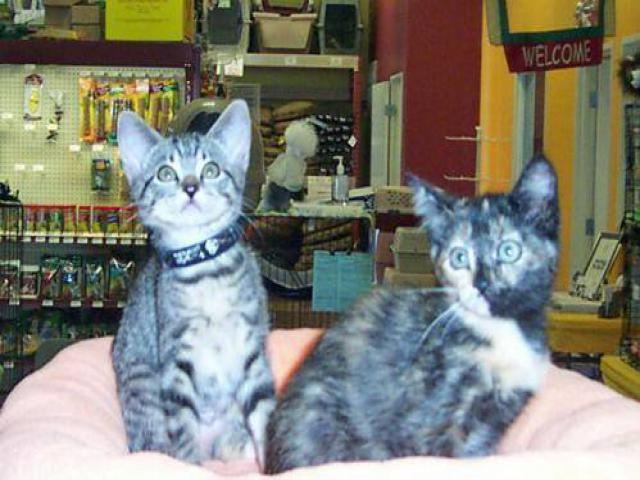cat: (249, 146, 570, 478), (116, 116, 285, 463)
